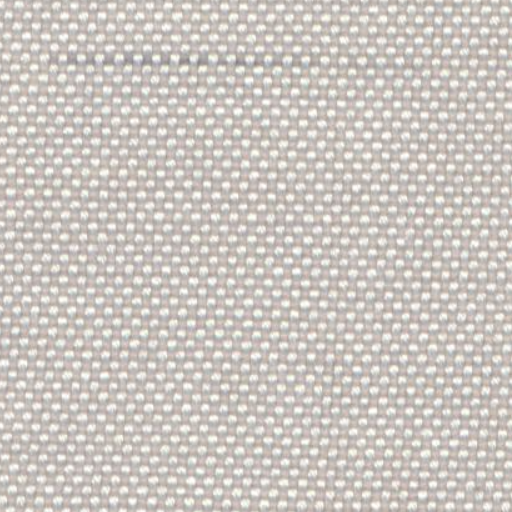WuZi: (44, 43, 316, 70)
